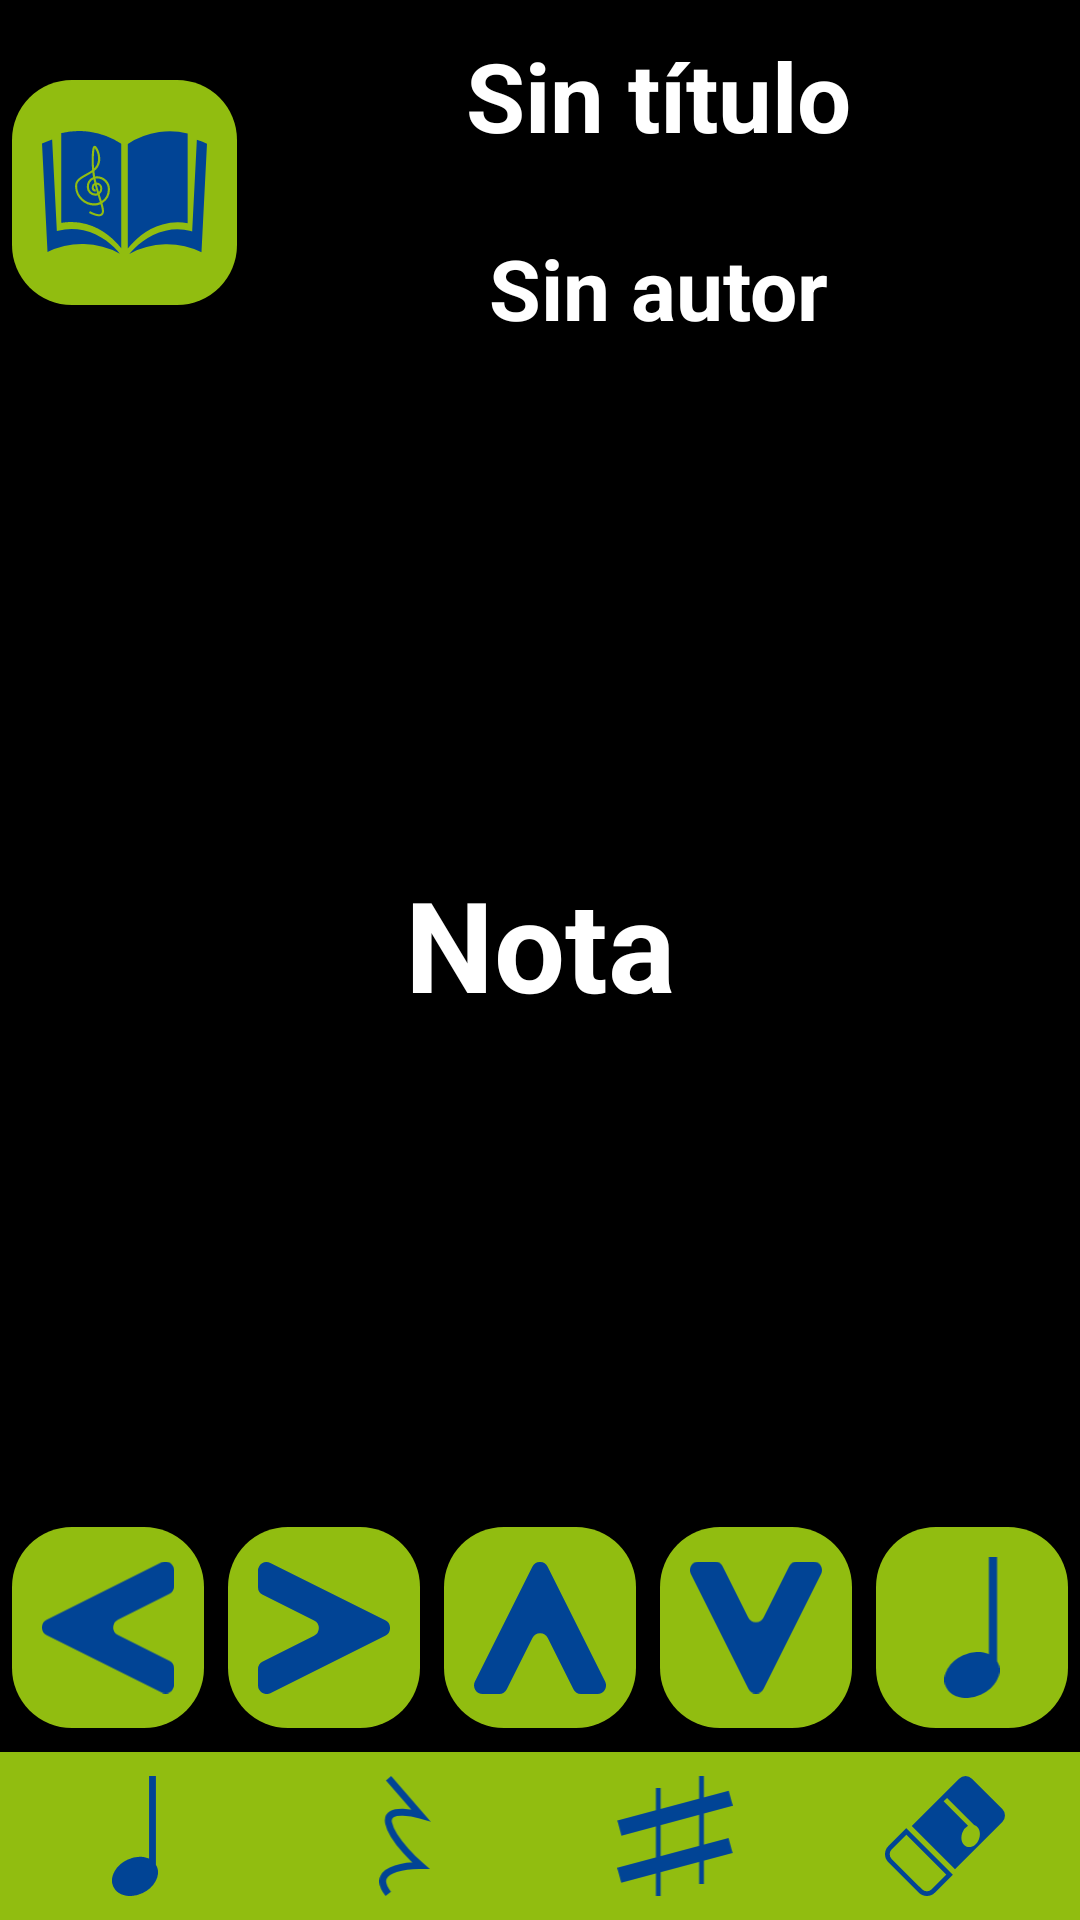

Icons on this 1080*1920 Android screen, each with its box as (x1,y1,x2,y2):
Cambiar a modo lectura: (12,80,237,305)
Desplazar a la derecha: (228,1527,420,1728)
Subir altura: (444,1527,636,1728)
